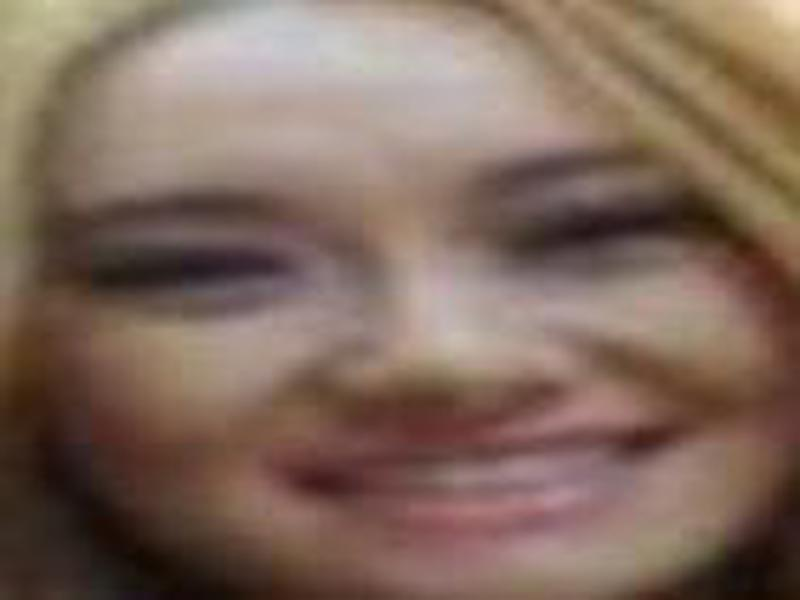without_mask: (51, 16, 785, 600)
